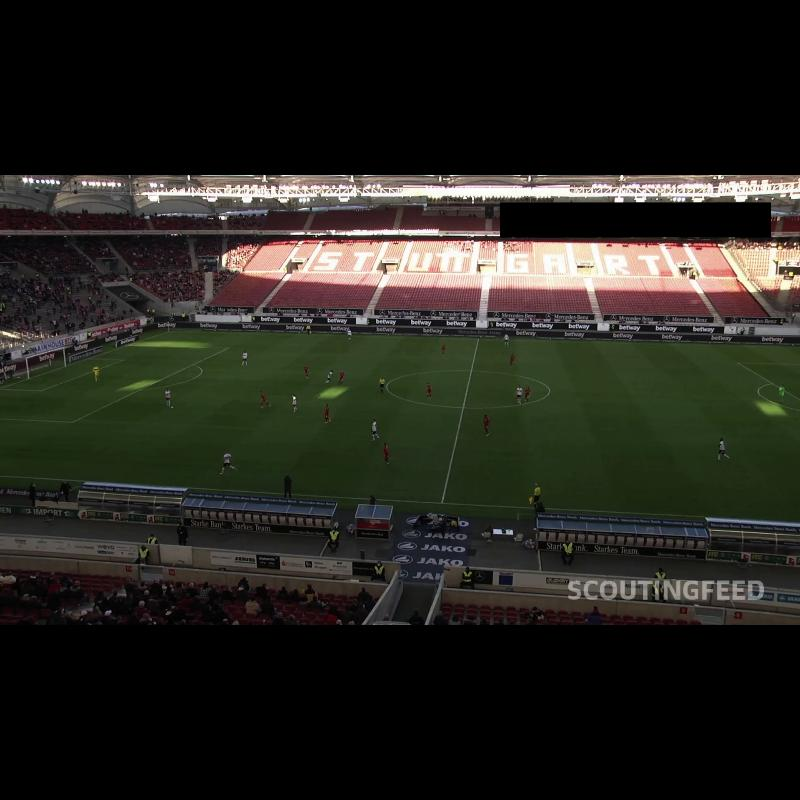cross_recipient_zone: (0, 345, 229, 422), (738, 362, 800, 401)
crossing_player_zone: (0, 418, 162, 481), (130, 331, 312, 349), (653, 344, 800, 363), (774, 451, 800, 482)
pitch: (0, 331, 800, 523)
